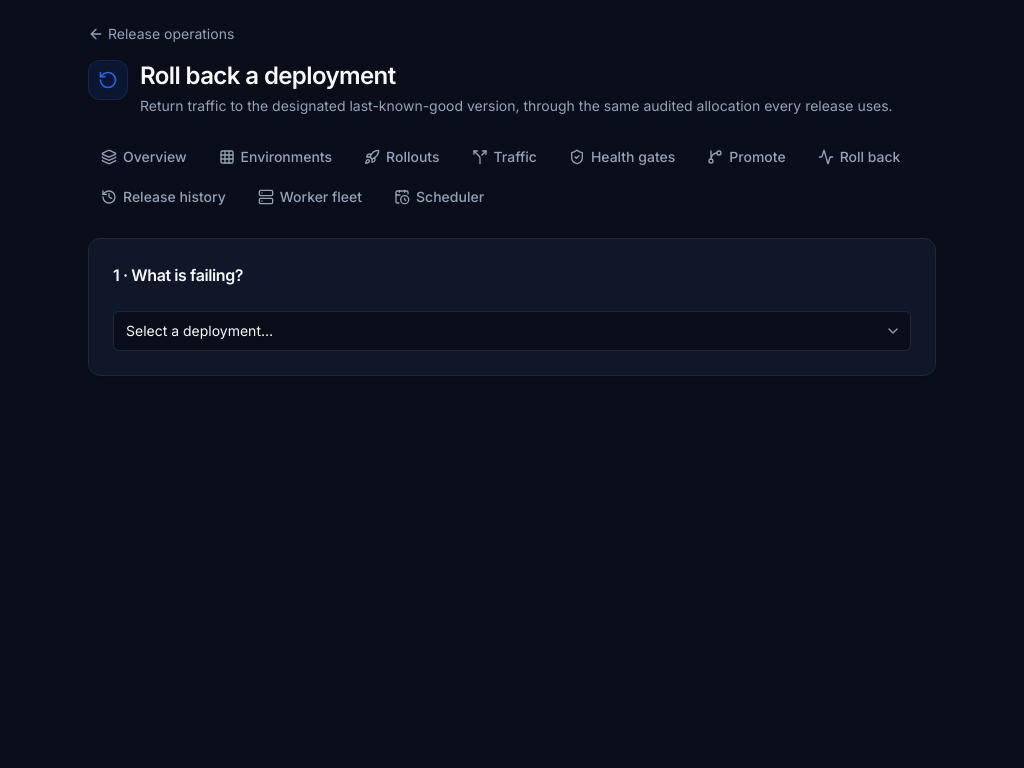
Test: AC-04..06 — traffic, gates and the wizards › explains that a rollback with no designated target will be refused
Select "Billing Assistant — 2.0.0 in PRODUCTION" in the dropdown named "Deployment to roll back" at [512, 331], box left=113, top=311, right=911, bottom=351
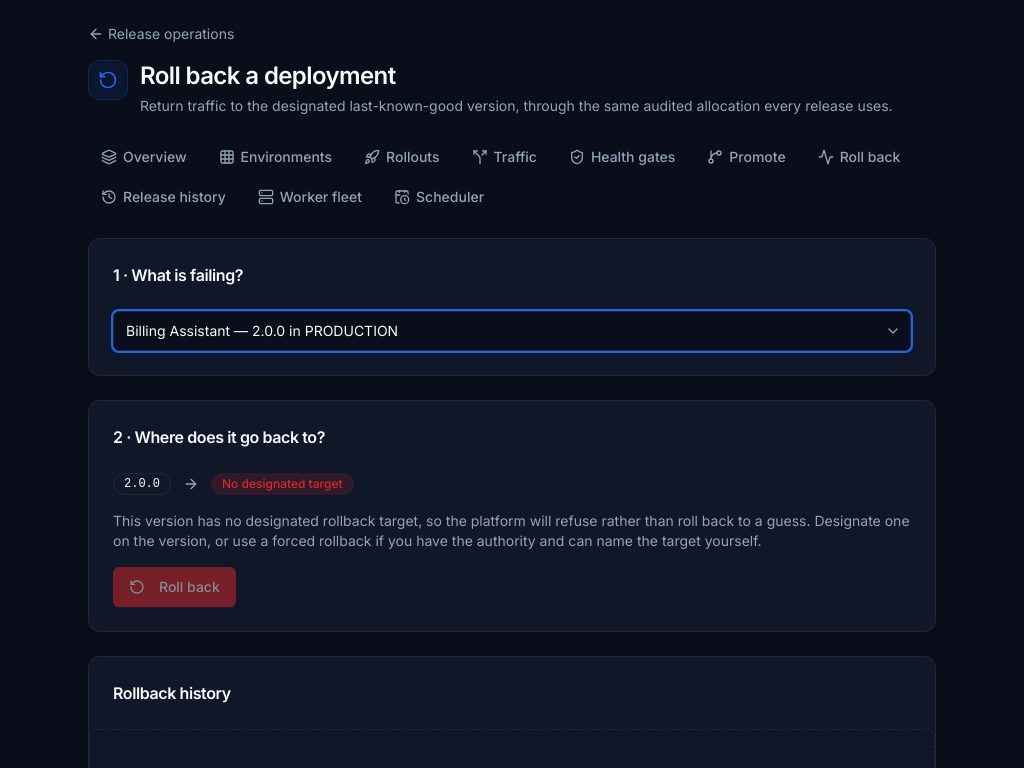
Check: the text "No designated target" is shown, box left=211, top=473, right=354, bottom=495
Check: the button "Roll back" is disabled, box left=113, top=567, right=236, bottom=607
